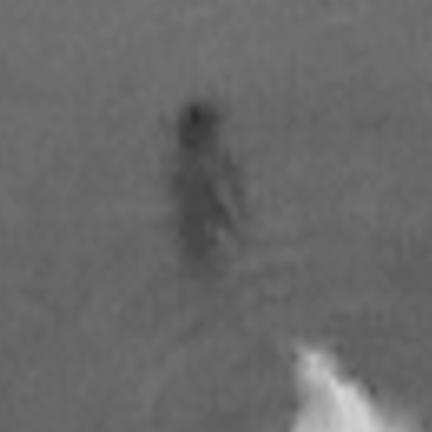flukeprints: (292, 345, 421, 431)
